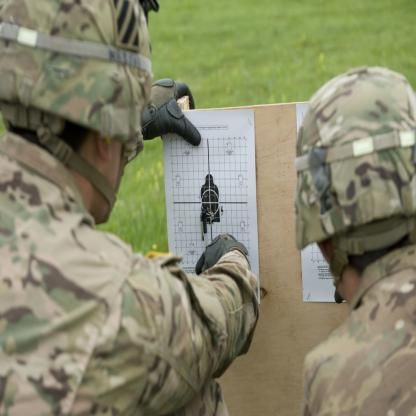Helmet: (0, 0, 152, 215), (296, 62, 416, 284)
